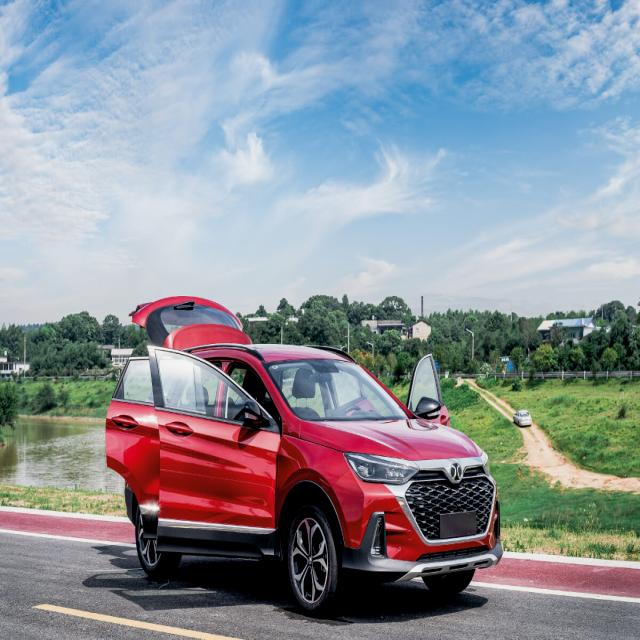SUV: (107, 301, 499, 610)
